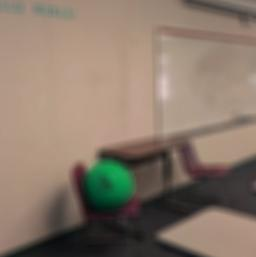algae: (81, 157, 136, 212)
